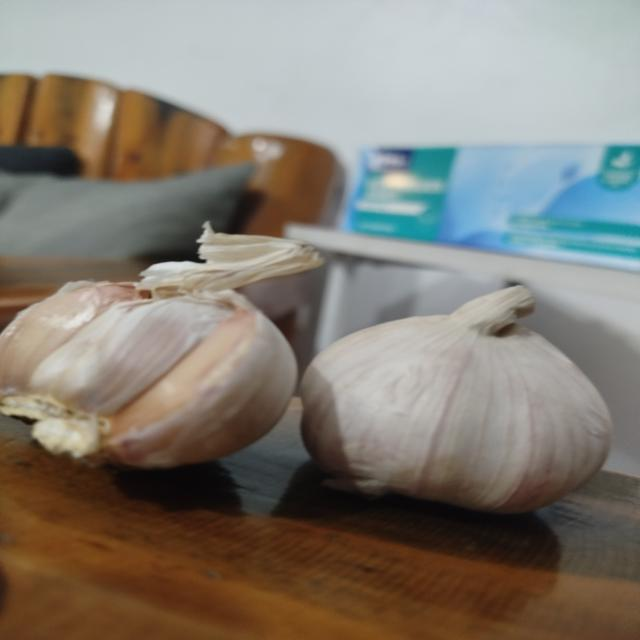garlic: (1, 220, 325, 471), (298, 284, 614, 514)
